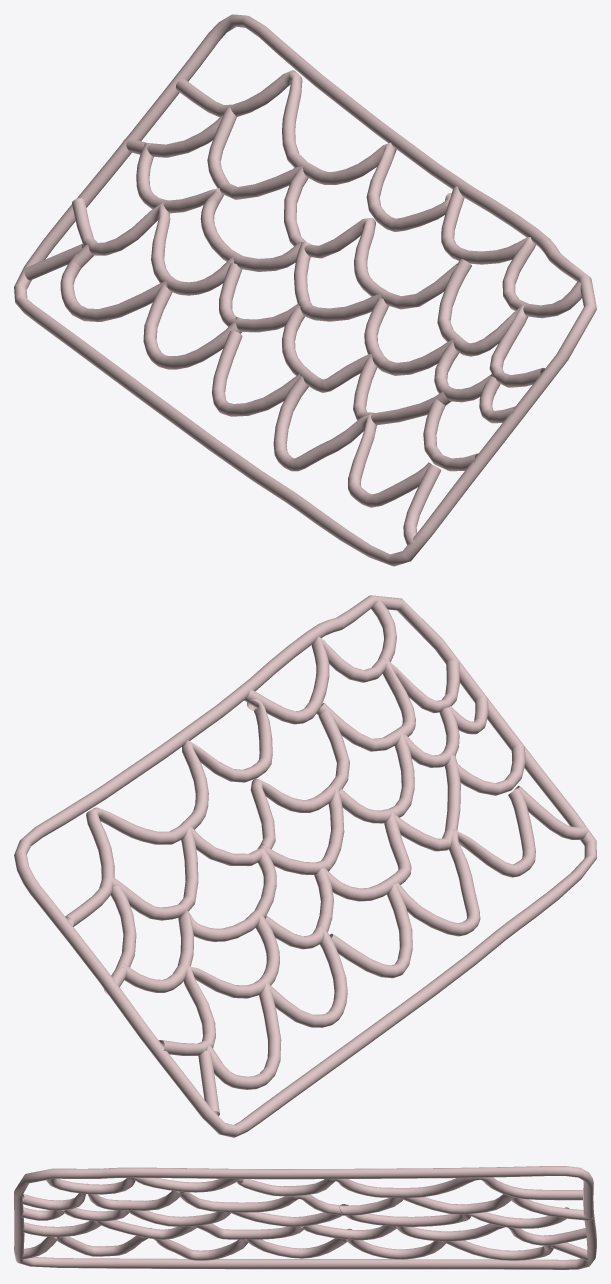
Rendered from Curve_icing.fbx.
3 renders of one model, top to bottom at view 1: azimuth 30°, elevation 25°; view 2: azimuth 150°, elevation 25°; view 3: azimuth 270°, elevation 25°, orthographic. The views are drawn at different scales.
Visible parts, largest first — view 1: Simple_GP_Layer; view 2: Simple_GP_Layer; view 3: Simple_GP_Layer.
Boxes of the visible parts, x1,y1,x2,y2 form: Simple_GP_Layer: (14, 14, 596, 566); Simple_GP_Layer: (14, 595, 596, 1137); Simple_GP_Layer: (14, 1166, 596, 1269).
Bounding box in the file's own units: 71.04 × 71.25 × 205.
